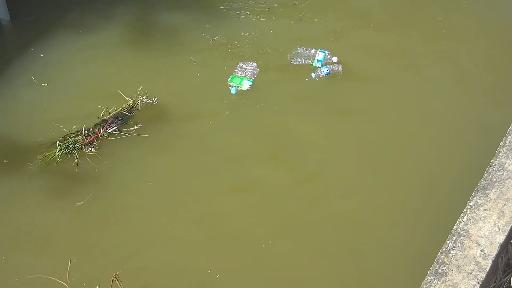plastic: (214, 56, 264, 92), (277, 43, 341, 71), (303, 62, 346, 75)
twig: (24, 88, 152, 174), (21, 255, 152, 285)
